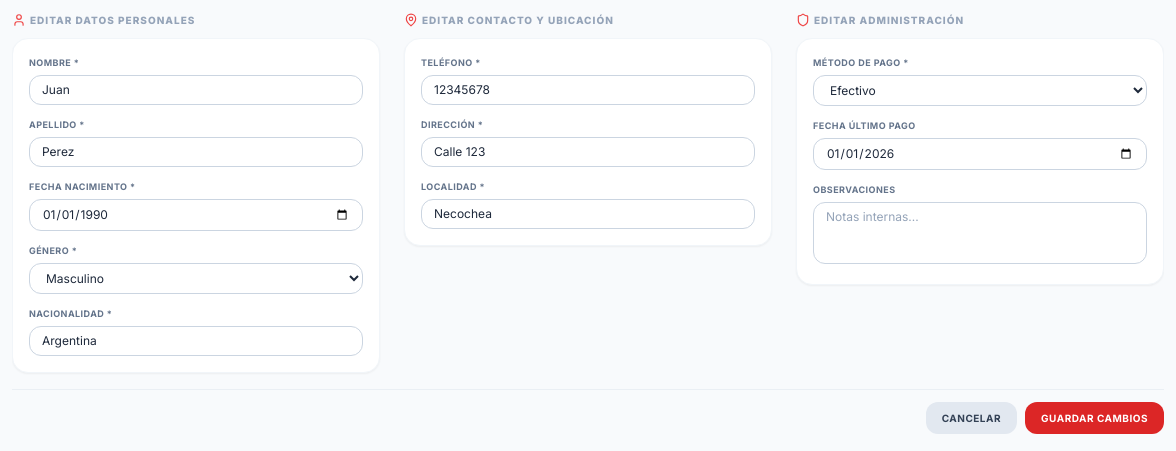
Test case: PartnerForm - UI Skills Standard › debería filtrar letras y caracteres inválidos en el campo teléfono
Replace the text in the field labelled "Teléfono *" with "+54 (2262) 15-abc4567!" at (588, 90), box top-left (421, 75), bottom-right (755, 105)
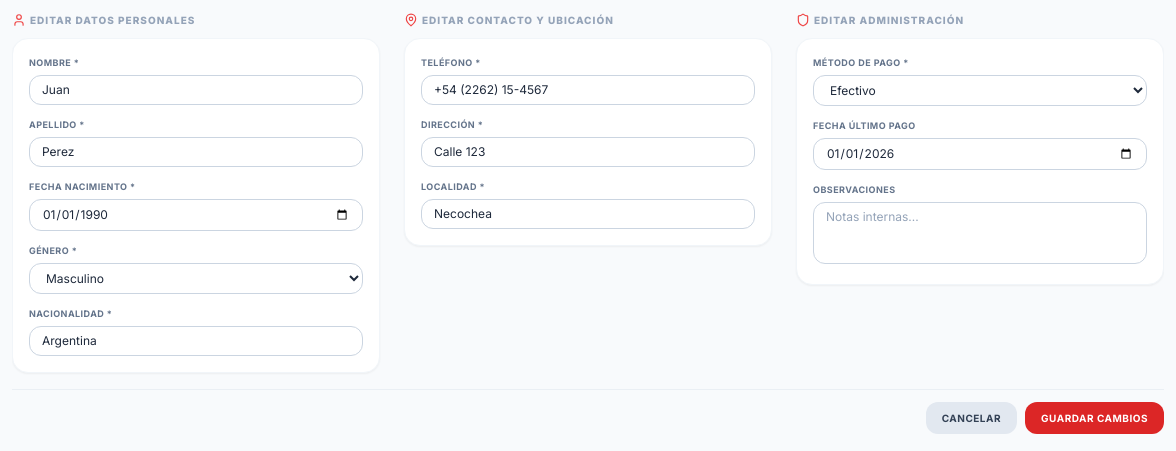
Expected: the field labelled "Teléfono *" holds "+54 (2262) 15-4567", top-left (421, 75), bottom-right (755, 105)
